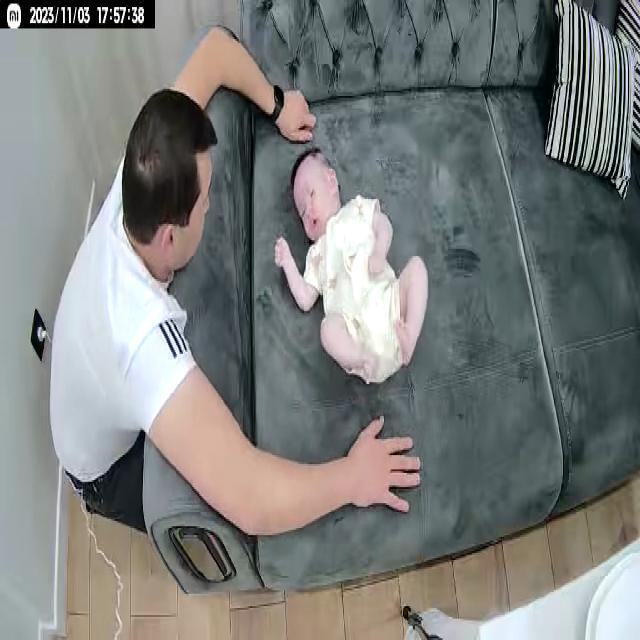baby: (274, 147, 430, 396)
